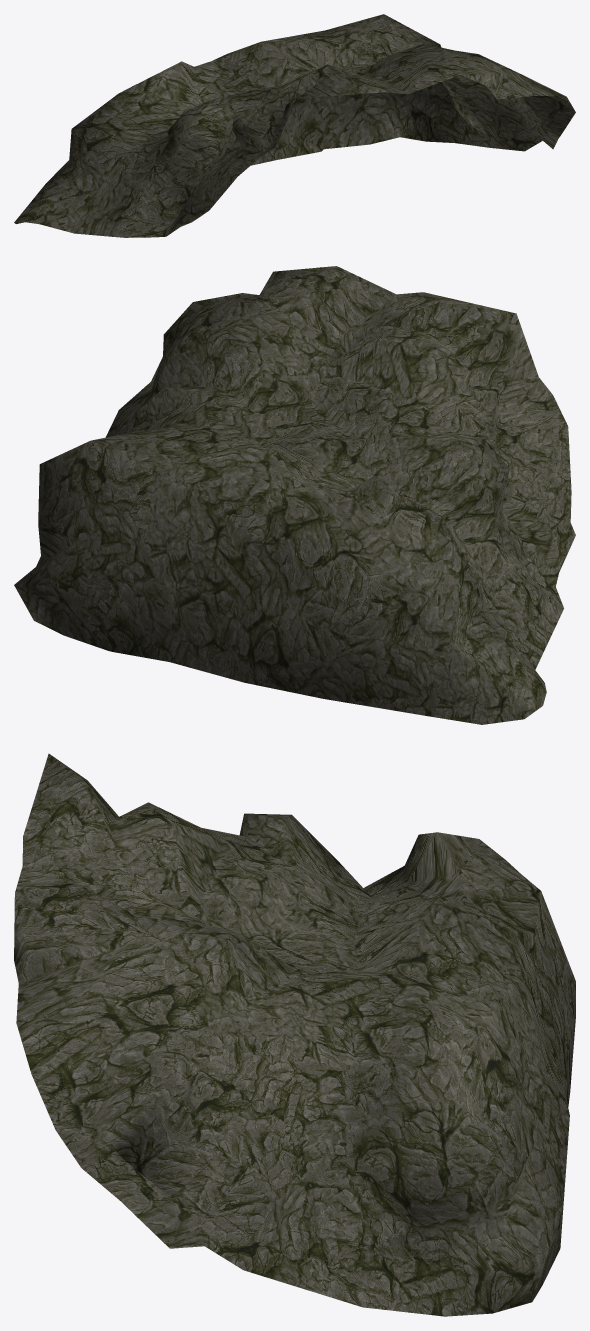
File: TI_Cliff_01_g_LOD_02.fbx
The picture shows the model from 3 angles, top to bottom: view 1: azimuth 30°, elevation 25°; view 2: azimuth 150°, elevation 25°; view 3: azimuth 270°, elevation 25°; orthographic projection. The views are drawn at different scales.
Parts seen in each view (by area): view 1: TI_Cliff_01_g_LOD_02; view 2: TI_Cliff_01_g_LOD_02; view 3: TI_Cliff_01_g_LOD_02.
Part boxes in pixels (left/top/right/bottom): TI_Cliff_01_g_LOD_02: left=14, top=14, right=575, bottom=237; TI_Cliff_01_g_LOD_02: left=14, top=266, right=575, bottom=724; TI_Cliff_01_g_LOD_02: left=14, top=753, right=575, bottom=1316.
Bounding box in the file's own units: 40.36 × 18.31 × 26.
